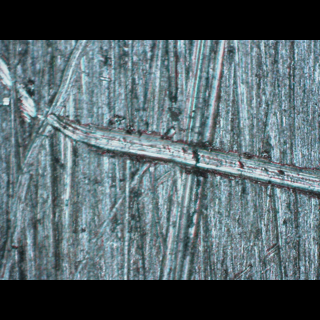d: (1, 56, 319, 200)
